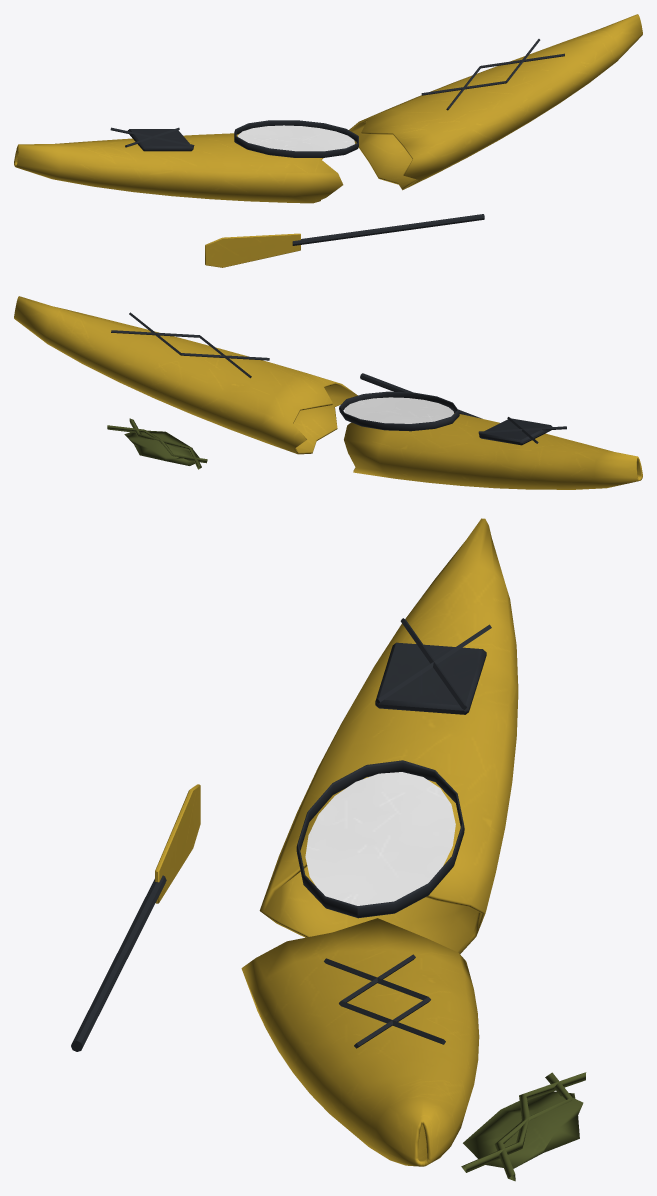
The model's file is kayak_wreck.glb.
The picture shows the model from 3 angles, top to bottom: view 1: azimuth 30°, elevation 25°; view 2: azimuth 150°, elevation 25°; view 3: azimuth 270°, elevation 25°; orthographic projection. The views are drawn at different scales.
Parts seen in each view (by area): view 1: kayak_wreck; view 2: kayak_wreck; view 3: kayak_wreck.
Part boxes in pixels (x1=…): kayak_wreck: x1=14, y1=14, x2=642, y2=267; kayak_wreck: x1=14, y1=296, x2=642, y2=489; kayak_wreck: x1=71, y1=518, x2=586, y2=1181.
Bounding box in the file's own units: 3.85 × 0.6109 × 1.41.
6 materials, 6 textured.
